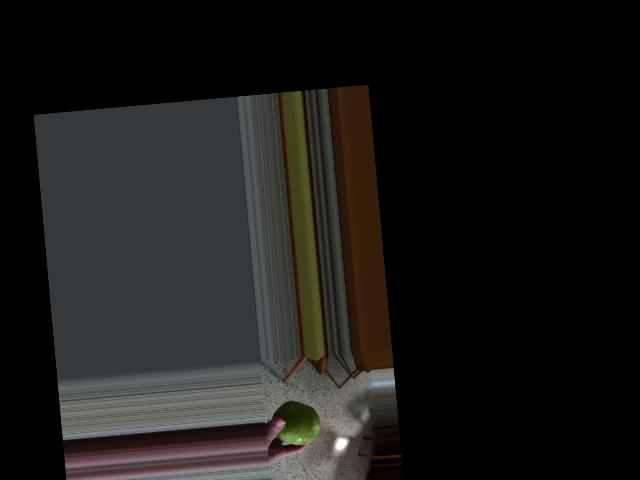apple: (269, 395, 323, 450)
